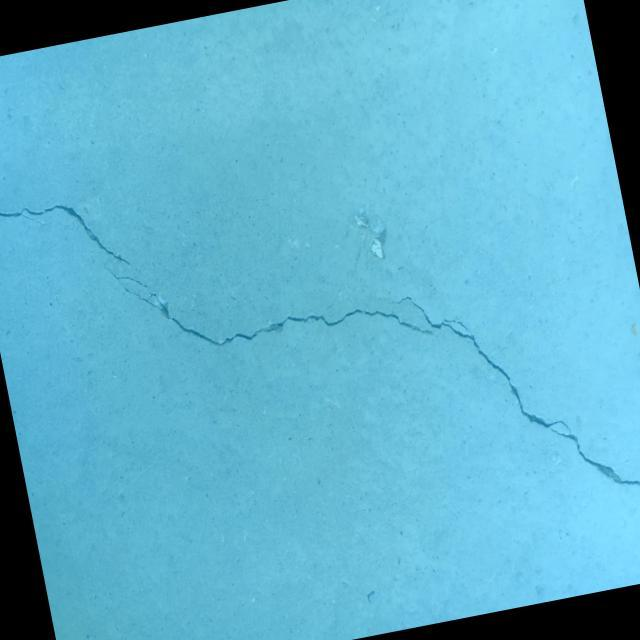crack: (102, 161, 640, 610), (0, 155, 147, 308)
